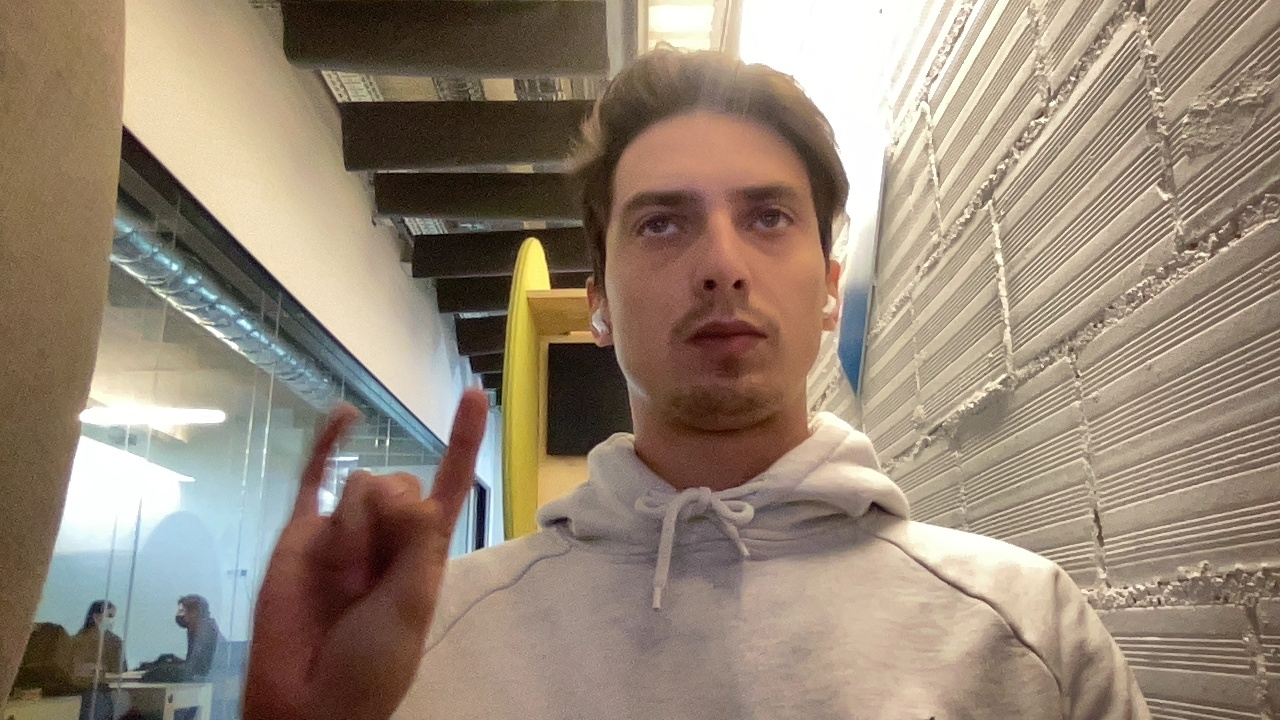iloveyou: (263, 382, 491, 705)
